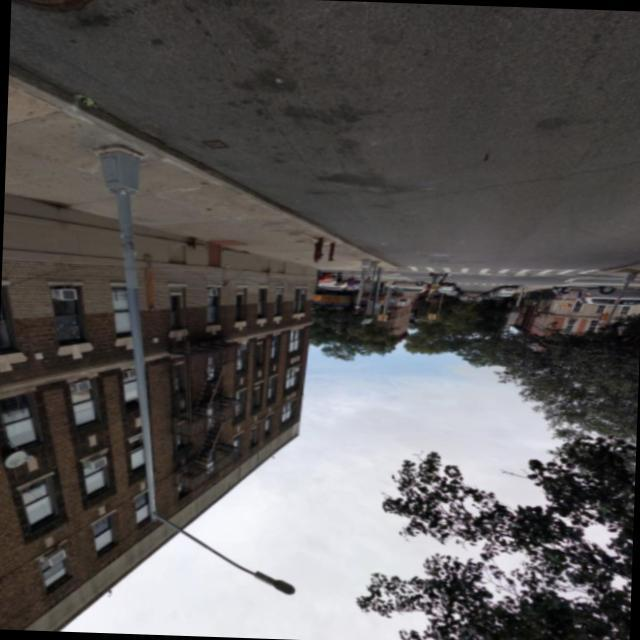off: (223, 545, 308, 610)
